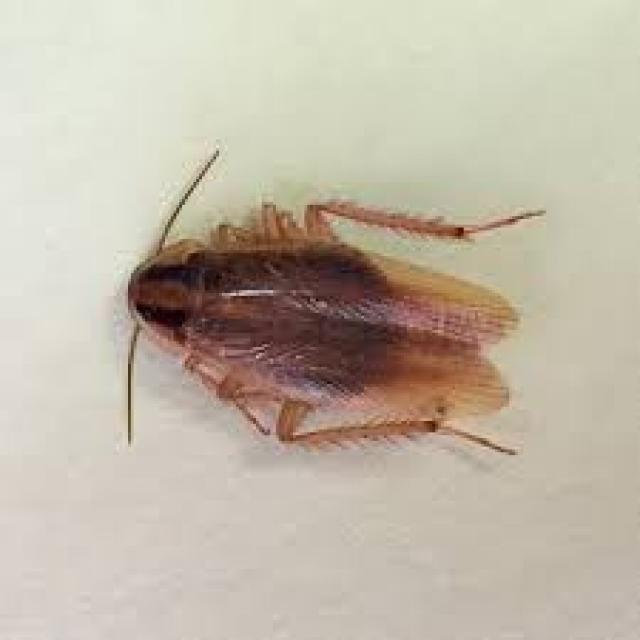Cockroach: (113, 143, 547, 471)
